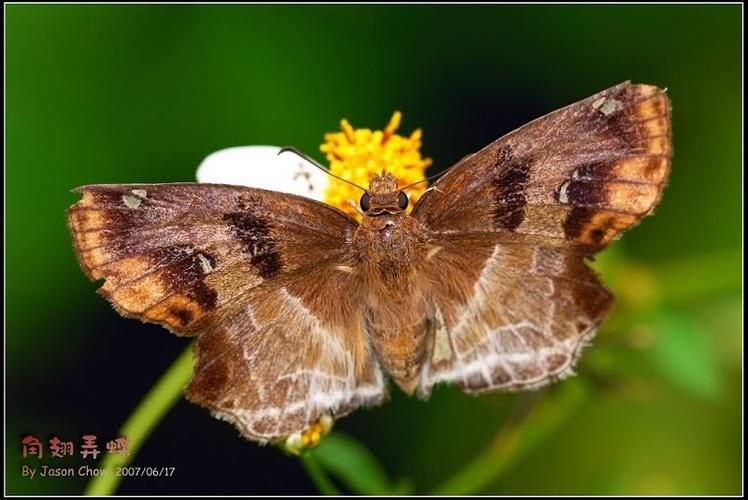Hesperiidae: (62, 77, 679, 439)
